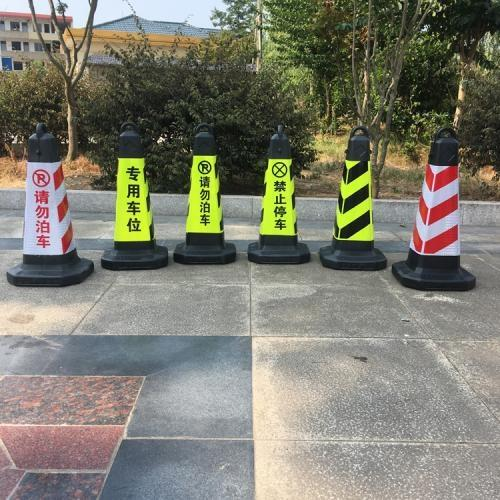cone_barrel: (391, 129, 473, 291), (9, 119, 87, 286), (266, 120, 336, 264), (316, 125, 383, 268), (100, 120, 163, 267), (248, 121, 307, 262), (174, 126, 233, 262)
